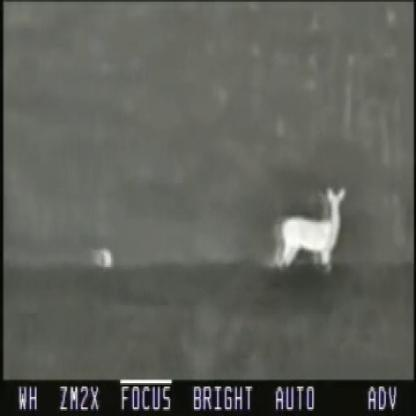rehkitze: (268, 185, 343, 271)
